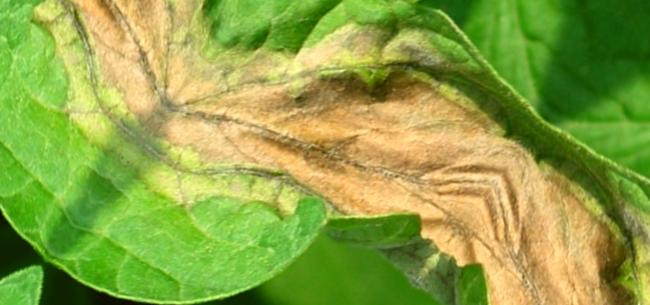Tomato leaf late blight: (47, 0, 632, 305)
